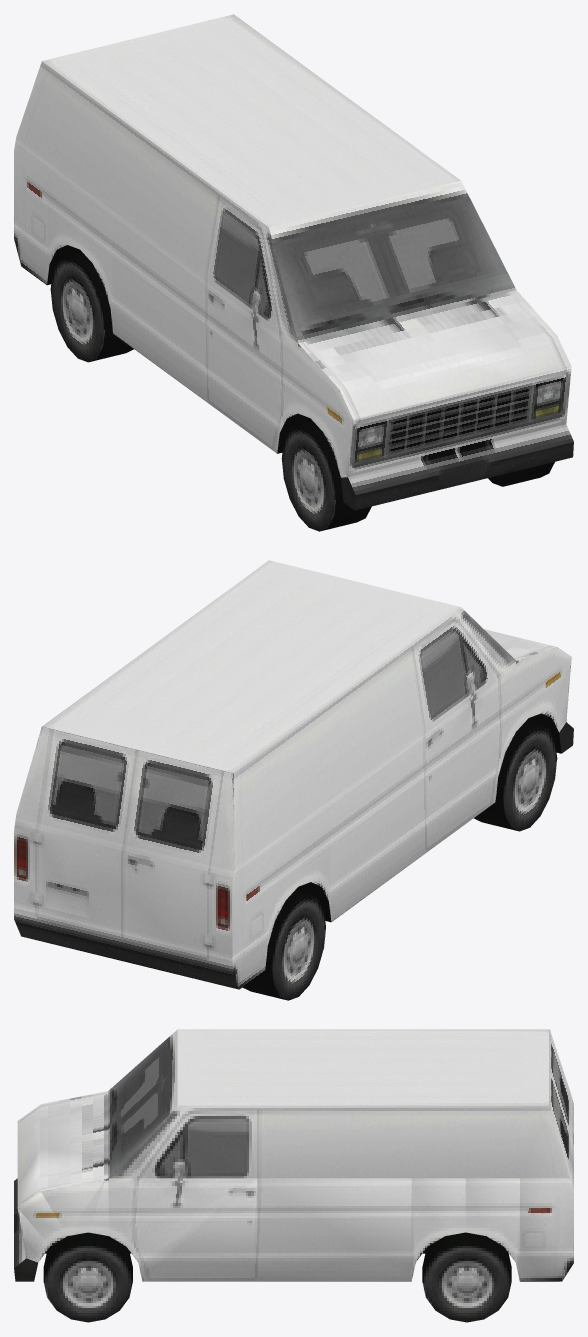
Rendered from van.glb.
The picture shows the model from 3 angles, top to bottom: view 1: azimuth 30°, elevation 25°; view 2: azimuth 150°, elevation 25°; view 3: azimuth 270°, elevation 25°; orthographic projection. The views are drawn at different scales.
Parts seen in each view (by area): view 1: object; view 2: object; view 3: object.
Boxes of the visible parts, left/top/right/bottom form: object: left=14, top=14, right=573, bottom=531; object: left=14, top=560, right=573, bottom=1000; object: left=14, top=1029, right=573, bottom=1322.
Bounding box in the file's own units: 1.61 × 1.78 × 4.3.
Materials: 1 (1 with a texture image).
